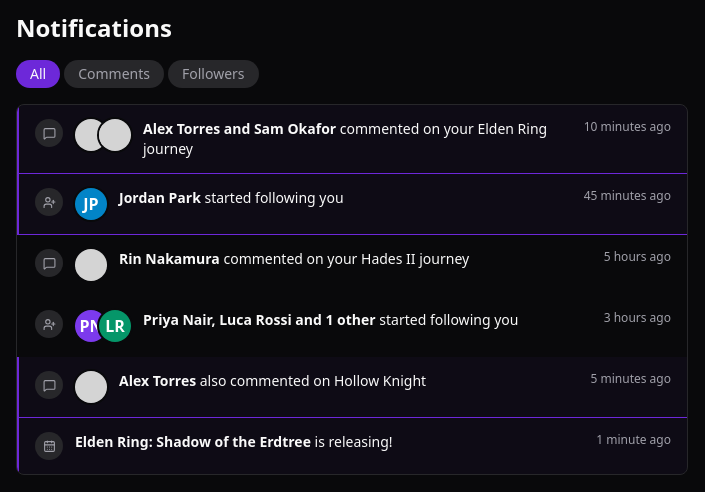
Test case: Notifications › Followers filter hides comment notifications
Click the button "Followers": (213, 74) [168, 60, 258, 88]
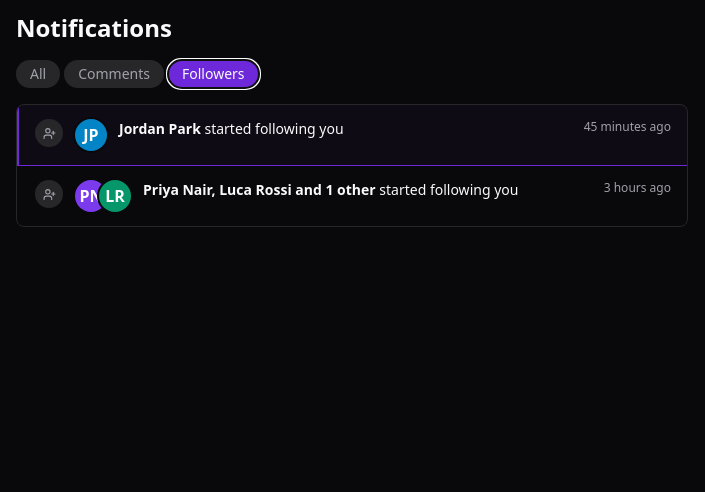
Check: the link "commented on your" is gone
